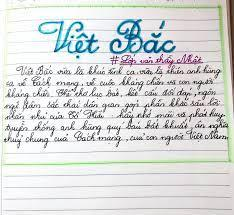text: (36, 17, 177, 60), (2, 129, 228, 150), (6, 119, 228, 137), (4, 96, 222, 114), (4, 86, 218, 103), (2, 107, 225, 123), (4, 75, 214, 91), (15, 64, 223, 79), (109, 53, 204, 67)
